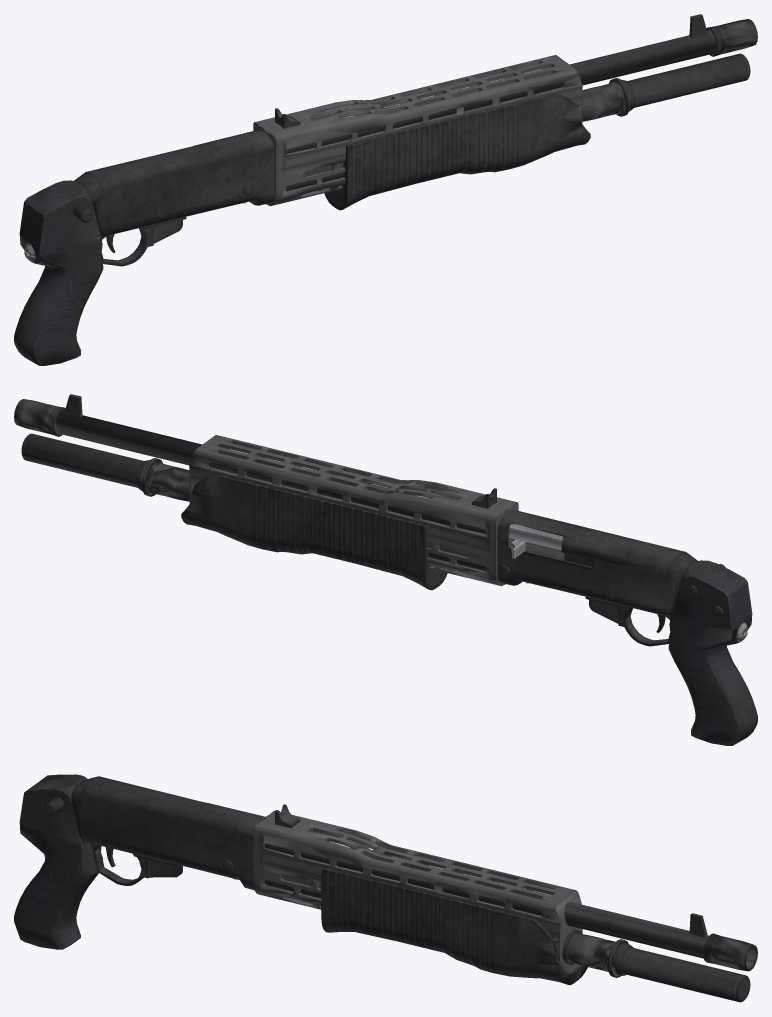
The model's file is shot gun.fbx.
The picture shows the model from 3 angles, top to bottom: view 1: azimuth 30°, elevation 25°; view 2: azimuth 150°, elevation 25°; view 3: azimuth 330°, elevation 25°; orthographic projection.
Parts seen in each view (by area): view 1: Shot Gun; view 2: Shot Gun; view 3: Shot Gun.
Part boxes in pixels (x1,y1,x2,y2): Shot Gun: (14,14,757,365); Shot Gun: (14,394,757,745); Shot Gun: (14,774,757,1002).
Size of the model in its own units: 551 by 135 by 50.84.
1 material, 1 textured.
